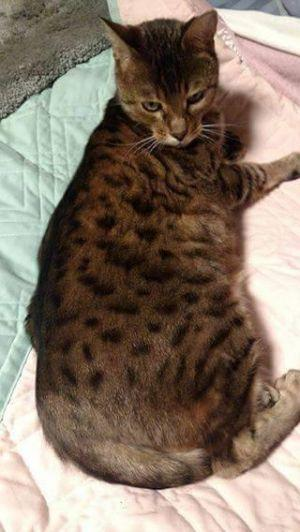bengal: (91, 5, 232, 156)
